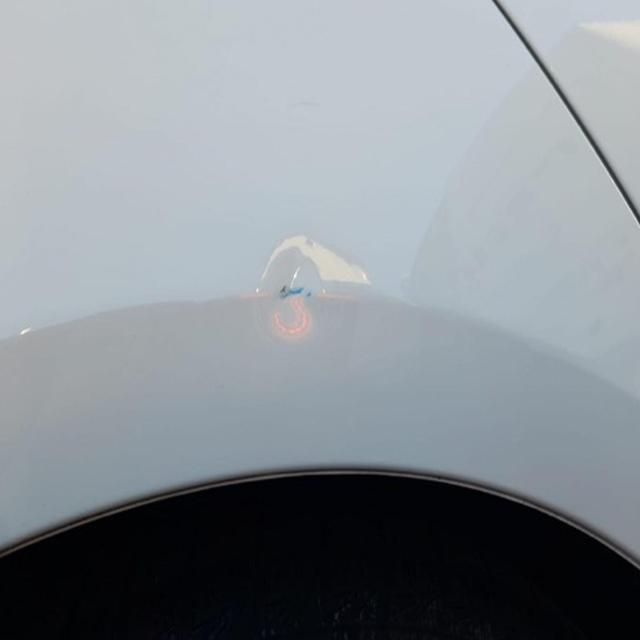dent: (253, 234, 374, 348)
